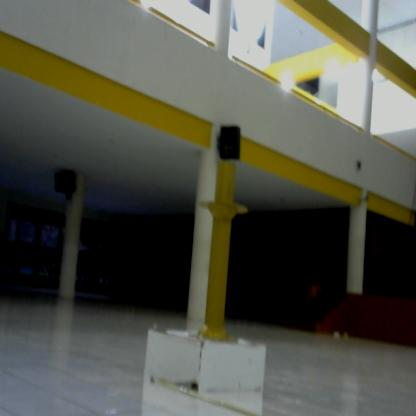pole: (194, 163, 248, 346)
